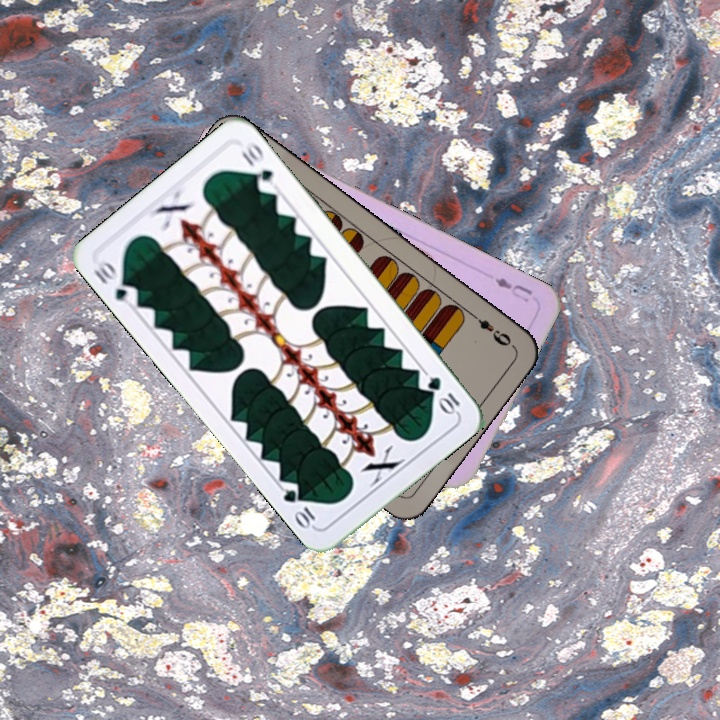E9: (466, 308, 514, 349)
EU: (490, 273, 535, 305)
G10: (89, 256, 141, 309), (423, 372, 463, 417)
